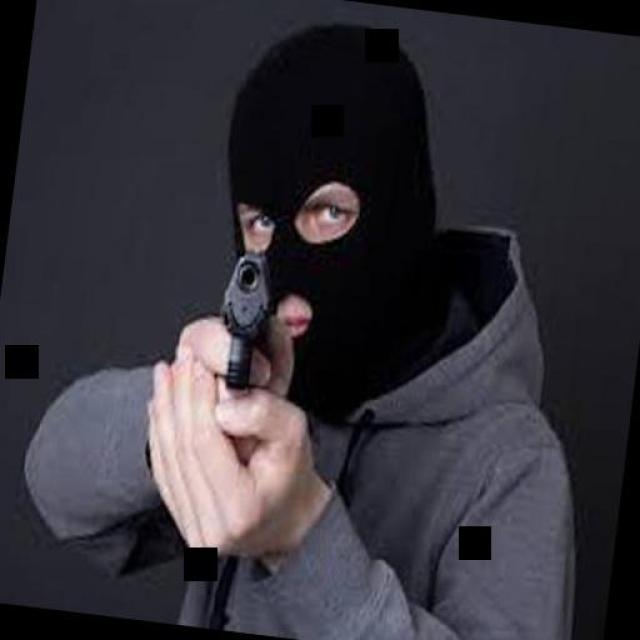gun: (211, 244, 271, 396)
